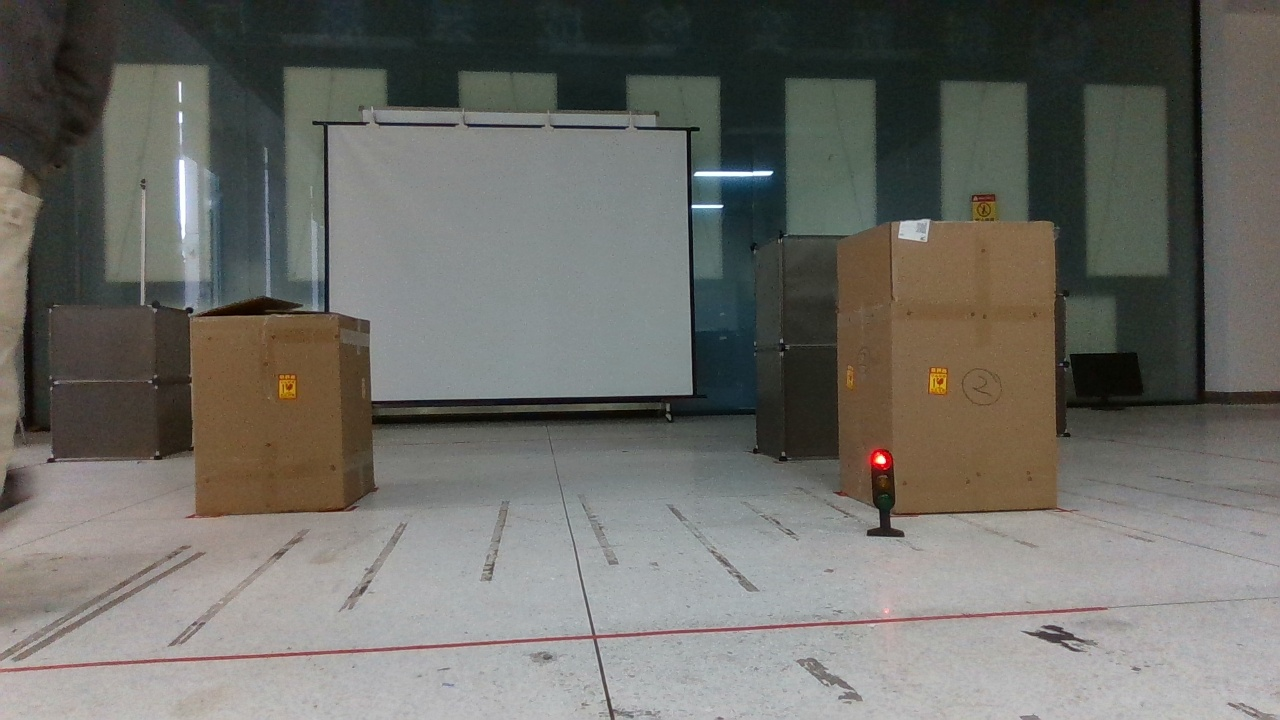red_light: (855, 439, 914, 543)
